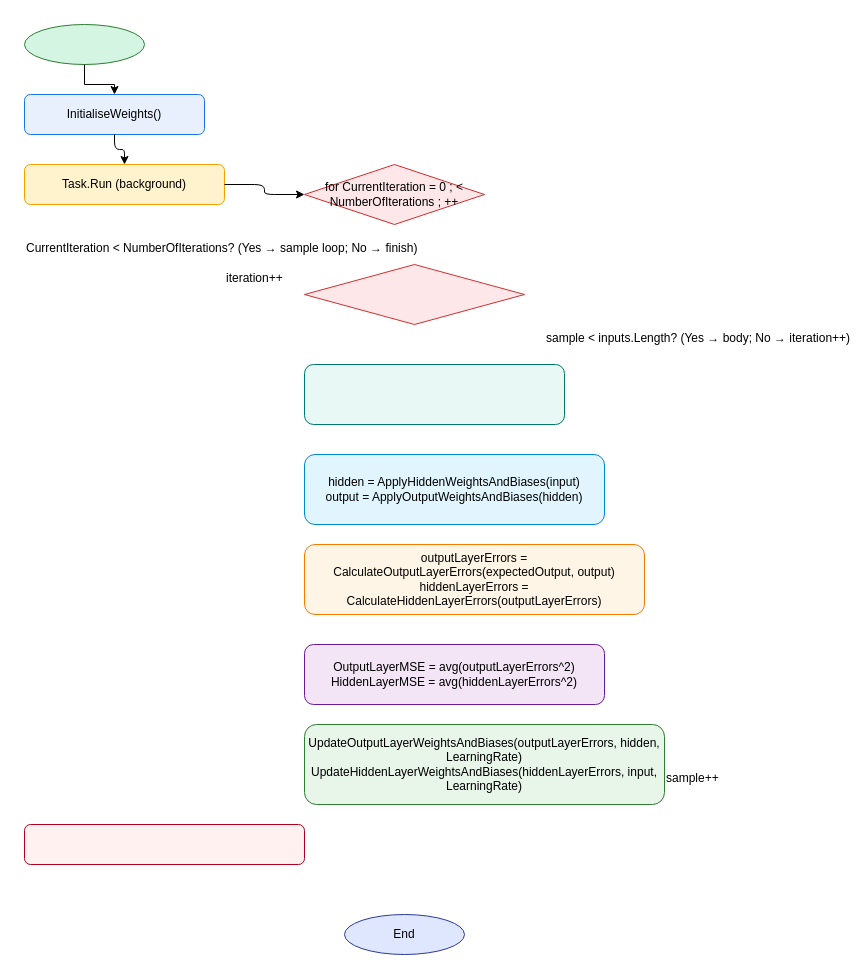
The diagram is 868 pixels wide and 972 high, and some of its shapes have lost their labels. The centre of each missing label's shape, as x and y in pixels:
"for sample = 0 ; < inputs.Length ; ++" belongs at (414,294).
"input = NormaliseInputs(inputs[sample]) expectedOutput = expectedOutputs[sample]" belongs at (434,394).
"NumberOfTrainingRecords = inputs.Length" belongs at (164,844).
"Start" belongs at (84,44).
